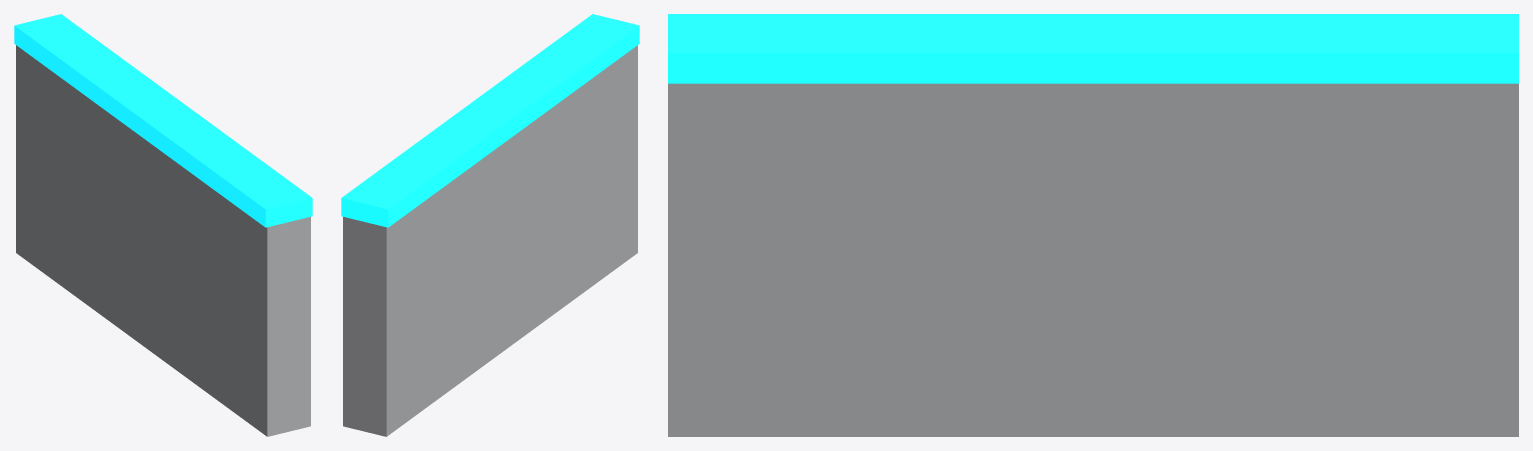
Rendered from future-edge.glb.
3 views of the same model, side by side, from view 1: azimuth 30°, elevation 25°; view 2: azimuth 150°, elevation 25°; view 3: azimuth 270°, elevation 25° (orthographic). The views are drawn at different scales.
Visible parts, largest first — view 1: future-edge; view 2: future-edge; view 3: future-edge.
Part boxes in pixels (x1=…): future-edge: x1=14, y1=14, x2=312, y2=436; future-edge: x1=341, y1=14, x2=639, y2=436; future-edge: x1=668, y1=14, x2=1518, y2=436.
Size of the model in its own units: 0.108 by 0.5 by 1.
